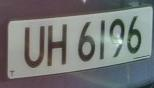1: (96, 16, 110, 65)
2: (108, 13, 128, 64)
6: (75, 16, 99, 68), (126, 12, 144, 59)
H: (45, 18, 72, 72)
U: (20, 20, 47, 73)
